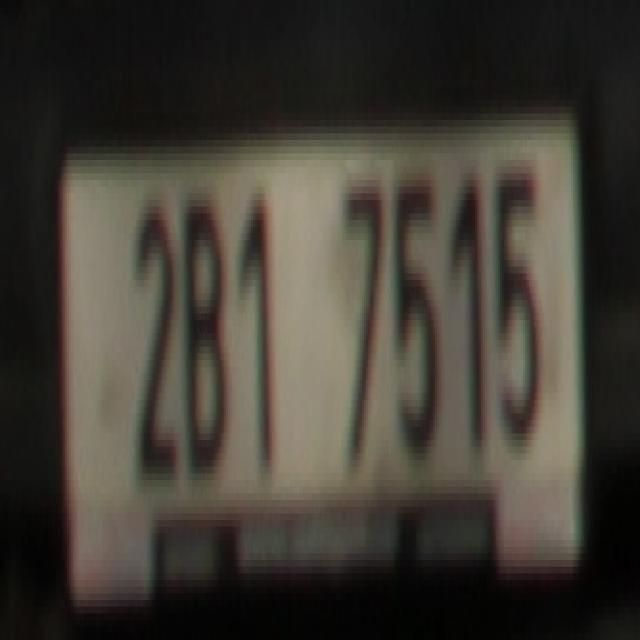1: (234, 173, 278, 460), (450, 173, 490, 460)
2: (130, 200, 178, 480)
5: (492, 160, 544, 453), (392, 160, 442, 453)
7: (334, 173, 382, 460)
B: (184, 186, 226, 466)
